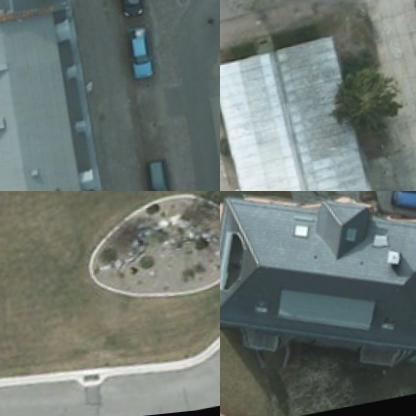car: (120, 28, 154, 90), (137, 162, 172, 190), (389, 191, 415, 225), (116, 0, 144, 23)
